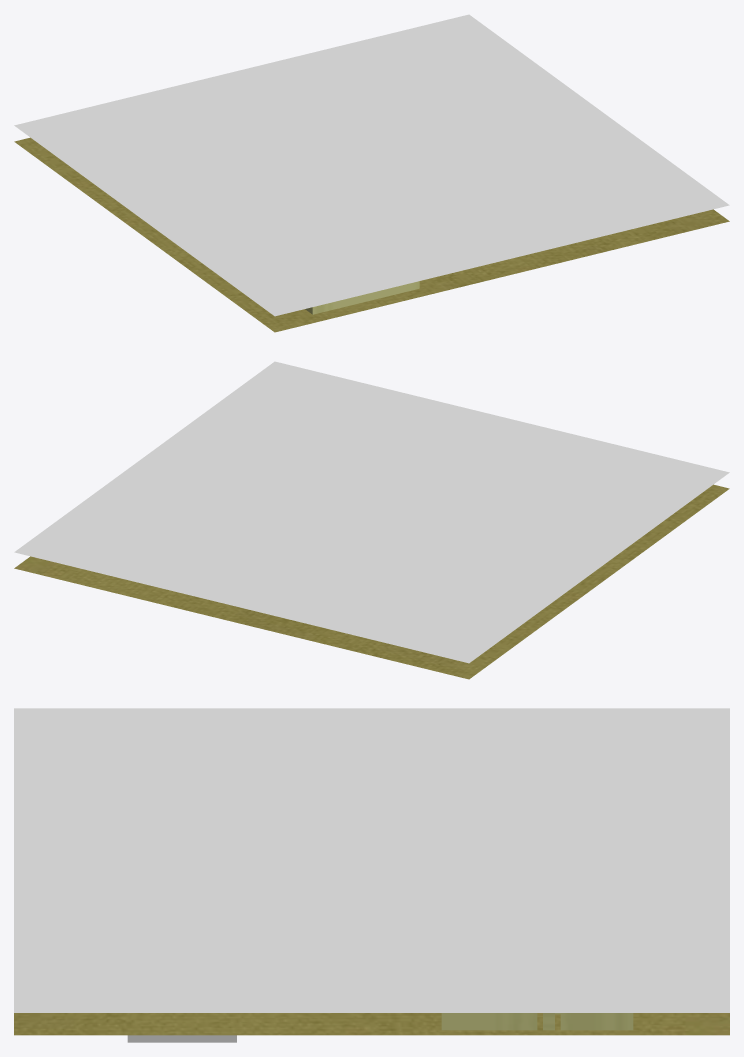
File: GGRE.fbx
The picture shows the model from 3 angles, top to bottom: view 1: azimuth 30°, elevation 25°; view 2: azimuth 150°, elevation 25°; view 3: azimuth 270°, elevation 25°; orthographic projection. The views are drawn at different scales.
Visible parts, largest first — view 1: Plane.007, Plane.003, Cube.345; view 2: Plane.007, Plane.003; view 3: Plane.007, Plane.003, Cube.081, Cube.225, Cube.233.
Boxes of the visible parts, bbox=[...] form: Plane.007: bbox=[14, 14, 729, 316]; Plane.003: bbox=[14, 137, 729, 332]; Cube.345: bbox=[312, 281, 419, 314]; Plane.007: bbox=[14, 361, 729, 663]; Plane.003: bbox=[14, 484, 729, 679]; Plane.007: bbox=[14, 708, 729, 1012]; Plane.003: bbox=[14, 1013, 729, 1035]; Cube.081: bbox=[441, 1013, 537, 1030]; Cube.225: bbox=[560, 1013, 633, 1030]; Cube.233: bbox=[127, 1035, 236, 1042].
Size of what is drawn, in the model's own units: 11819 by 1132 by 11731.
